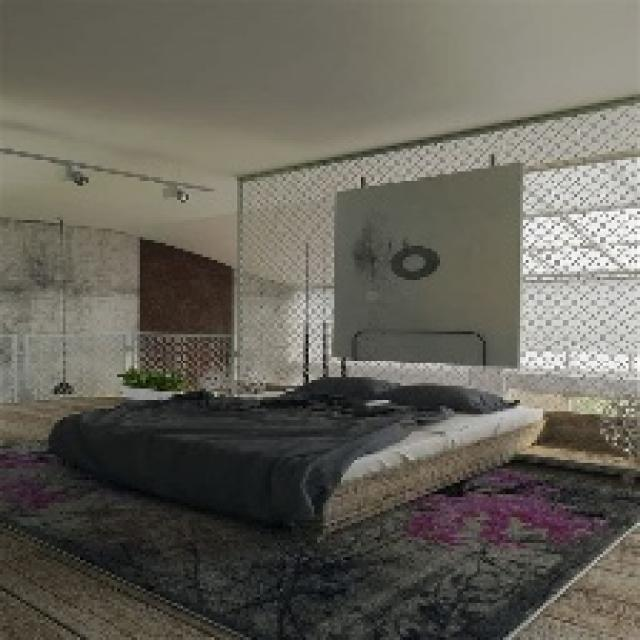Bed: (46, 383, 546, 537)
